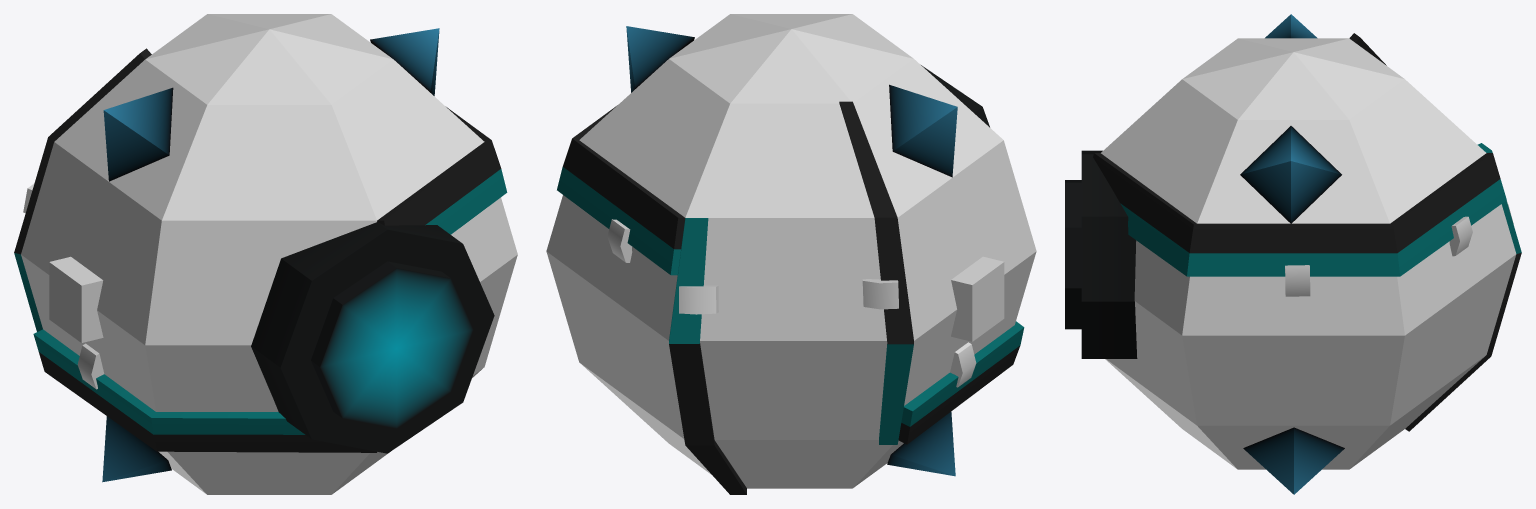
Rendered from Fred.fbx.
3 views of the same model, side by side, from view 1: azimuth 30°, elevation 25°; view 2: azimuth 150°, elevation 25°; view 3: azimuth 270°, elevation 25° (orthographic). The views are drawn at different scales.
Parts seen in each view (by area): view 1: polySurface1, pCylinder1, pCylinder2, pasted__polySurface4, pasted__polySurface3 (×2), pPyramid2, pCube1, pPyramid3, pPyramid1, pCube2; view 2: polySurface1, pasted__polySurface3 (×3), pPyramid2, pasted__polySurface4, pCube1, pPyramid3, pPyramid1, pCube6, pCube7, pCube2, pCube5, pCylinder1; view 3: polySurface1, pasted__polySurface3 (×2), pCylinder1, pPyramid1, pPyramid4, pCylinder2, pCube4, pPyramid2, pCube5.
Part boxes in pixels (left/top/right/bottom): polySurface1: left=21, top=14, right=517, bottom=494; pCylinder1: left=251, top=222, right=494, bottom=453; pCylinder2: left=311, top=261, right=473, bottom=428; pasted__polySurface4: left=33, top=329, right=376, bottom=452; pasted__polySurface3 (×2): left=14, top=48, right=507, bottom=331; pPyramid2: left=103, top=87, right=173, bottom=181; pCube1: left=49, top=256, right=103, bottom=342; pPyramid3: left=102, top=416, right=171, bottom=482; pPyramid1: left=370, top=28, right=439, bottom=95; pCube2: left=77, top=343, right=104, bottom=389; polySurface1: left=546, top=14, right=1036, bottom=488; pasted__polySurface3 (×3): left=557, top=101, right=913, bottom=494; pPyramid2: left=889, top=84, right=957, bottom=177; pasted__polySurface4: left=898, top=321, right=1024, bottom=444; pCube1: left=951, top=256, right=1004, bottom=341; pPyramid3: left=887, top=412, right=955, bottom=476; pPyramid1: left=626, top=26, right=694, bottom=92; pCube6: left=679, top=285, right=718, bottom=314; pCube7: left=862, top=279, right=898, bottom=309; pCube2: left=950, top=342, right=976, bottom=387; pCube5: left=607, top=219, right=632, bottom=262; pCylinder1: left=921, top=65, right=989, bottom=127; polySurface1: left=1101, top=38, right=1516, bottom=469; pasted__polySurface3 (×2): left=1093, top=143, right=1521, bottom=431; pCylinder1: left=1081, top=150, right=1137, bottom=358; pPyramid1: left=1240, top=126, right=1341, bottom=223; pPyramid4: left=1243, top=427, right=1344, bottom=494; pCylinder2: left=1065, top=180, right=1081, bottom=329; pCube4: left=1285, top=265, right=1310, bottom=296; pPyramid2: left=1265, top=14, right=1317, bottom=38; pCube5: left=1449, top=216, right=1472, bottom=256.
Bounding box in the file's own units: 0.0213 × 0.0236 × 0.0241.
